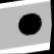correct: (14, 10, 46, 38)
